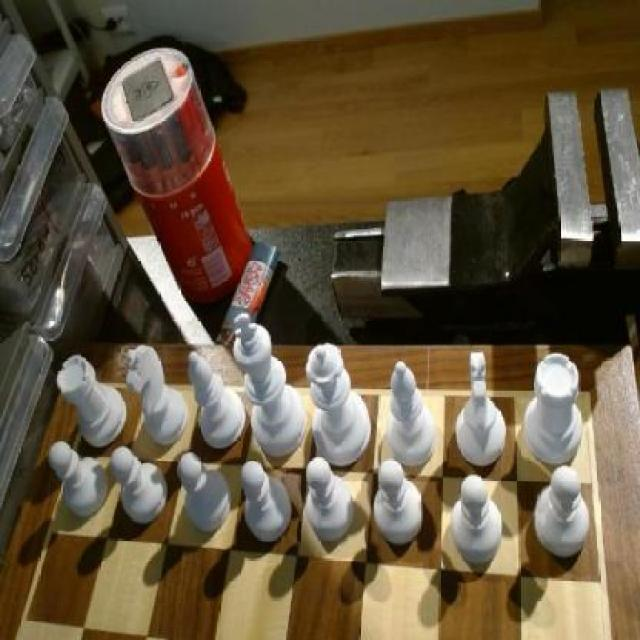black-rook: (186, 348, 249, 452), (386, 358, 442, 466)
white-bishop: (232, 309, 307, 456)
white-king: (455, 351, 511, 472), (126, 342, 188, 446)
white-knight: (534, 465, 591, 559), (49, 438, 111, 522), (448, 471, 503, 563), (372, 462, 427, 546), (114, 448, 170, 526), (241, 462, 294, 542), (303, 454, 355, 533), (178, 454, 230, 532)
white-pawn: (306, 345, 374, 469)
white-queen: (526, 351, 586, 466), (57, 355, 129, 450)
